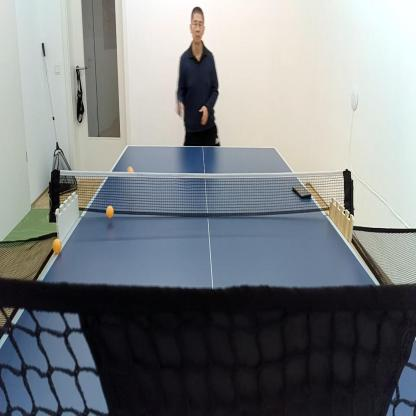Ball: (52, 237, 62, 255), (106, 204, 115, 219), (126, 164, 135, 173)
